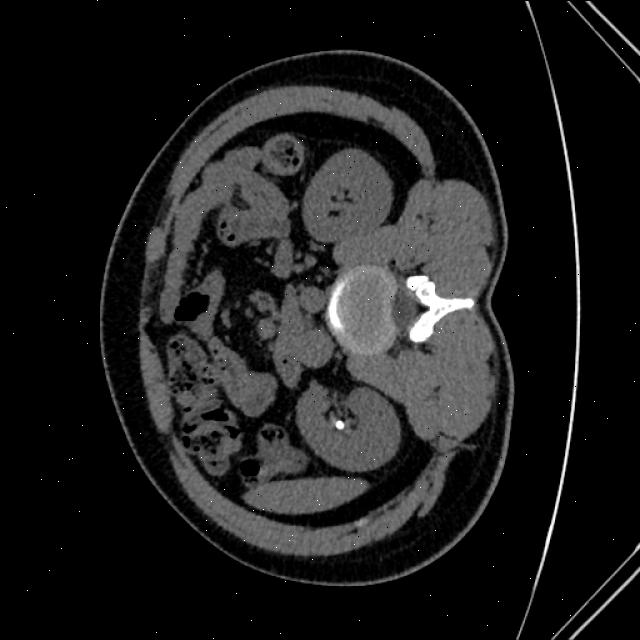kidneystone: (335, 419, 344, 429)
